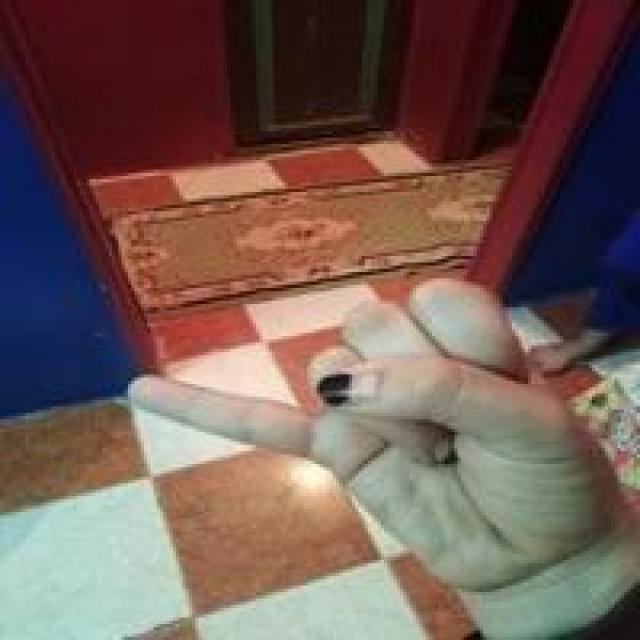J: (120, 267, 613, 594)
